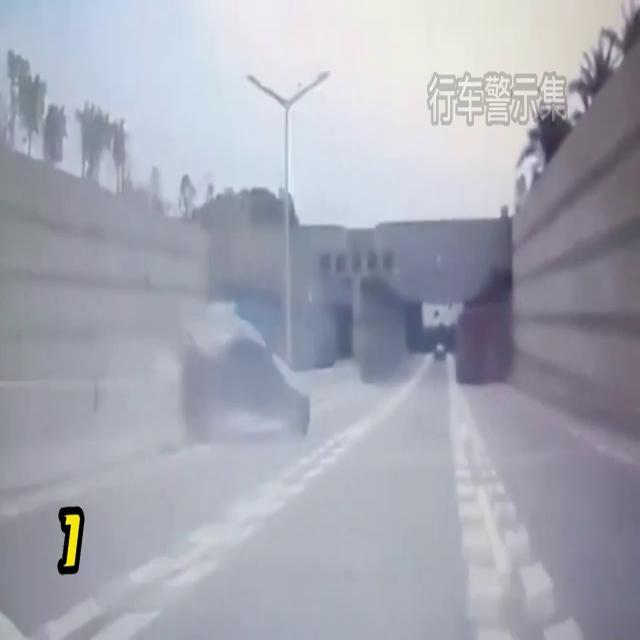single accident: (165, 288, 328, 472)
